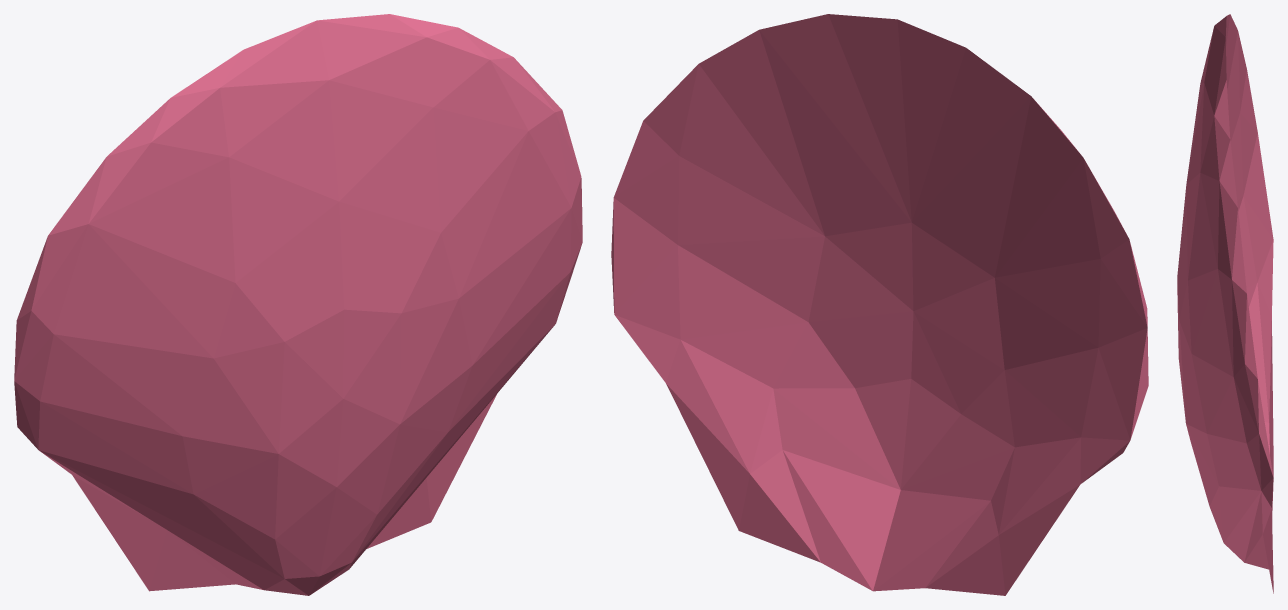
The model's file is Shell_01.fbx.
The picture shows the model from 3 angles, left to right: view 1: azimuth 30°, elevation 25°; view 2: azimuth 150°, elevation 25°; view 3: azimuth 270°, elevation 25°; orthographic projection. The views are drawn at different scales.
Visible parts, largest first — view 1: Shell_01; view 2: Shell_01; view 3: Shell_01.
Part boxes in pixels (x1,y1,x2,y2): Shell_01: (14,14,582,595); Shell_01: (611,14,1148,595); Shell_01: (1177,14,1273,593).
Size of the model in its own units: 202 by 199 by 33.29.
